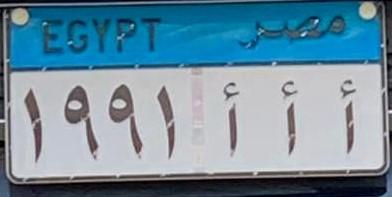1: (19, 82, 54, 164), (152, 82, 185, 161)
9: (103, 78, 144, 163), (60, 82, 98, 164)
alif: (327, 75, 368, 157), (272, 78, 307, 156), (216, 80, 248, 157)
